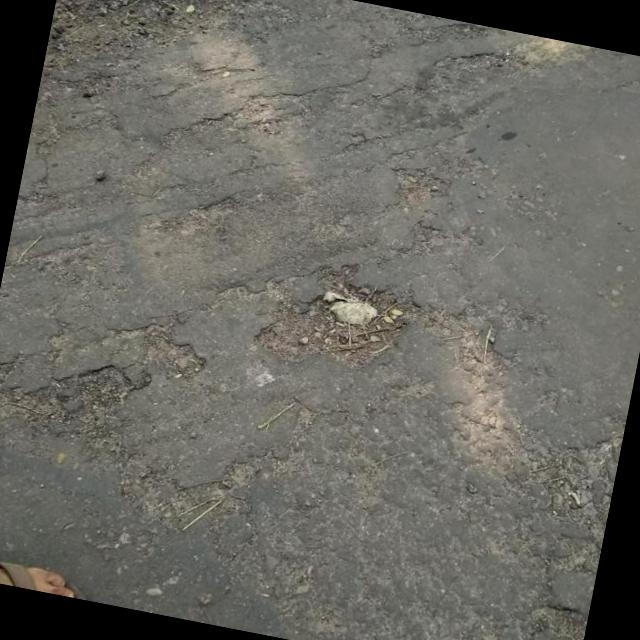pothole: (248, 260, 427, 390), (43, 0, 237, 101), (122, 314, 215, 377), (64, 354, 140, 412), (381, 160, 454, 218)
